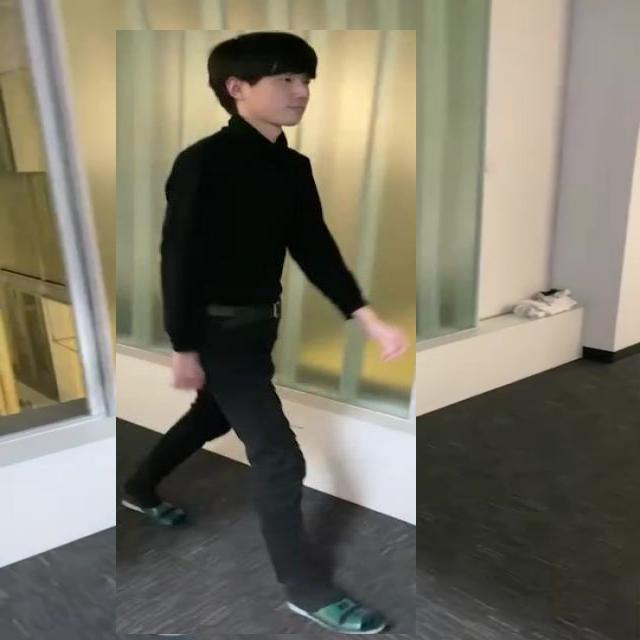direk: (116, 30, 416, 634)
